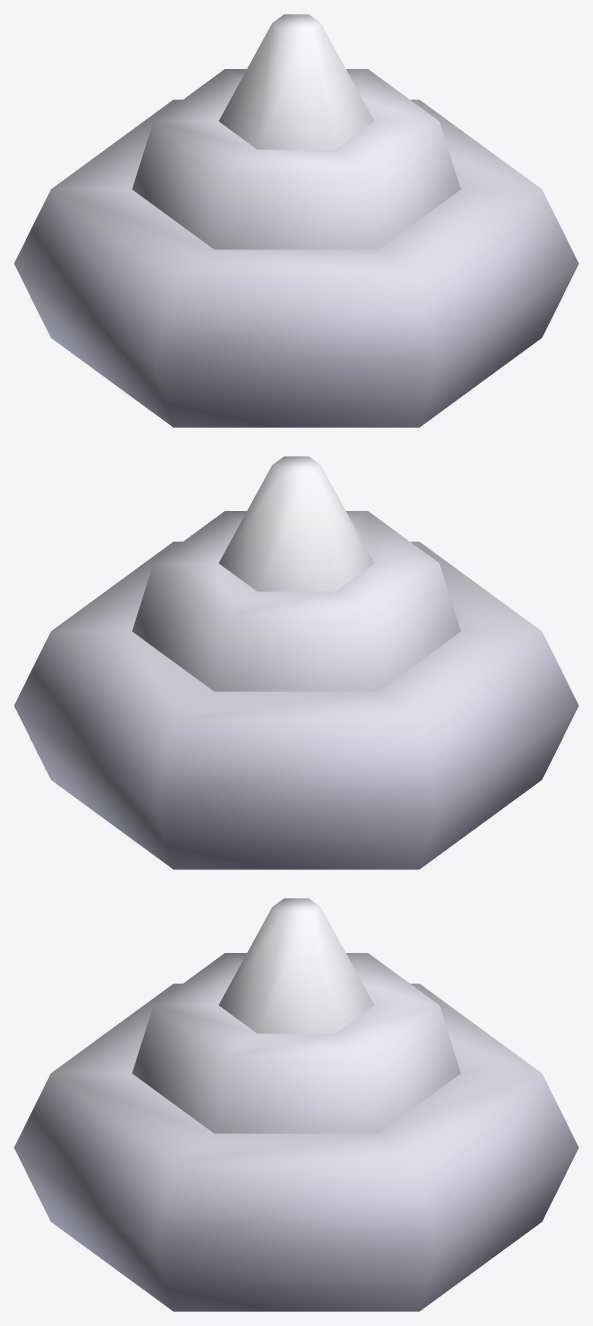
The model's file is whipped-cream.glb.
The picture shows the model from 3 angles, top to bottom: view 1: azimuth 30°, elevation 25°; view 2: azimuth 150°, elevation 25°; view 3: azimuth 270°, elevation 25°; orthographic projection.
Parts seen in each view (by area): view 1: whipped-cream; view 2: whipped-cream; view 3: whipped-cream.
Boxes of the visible parts, x1,y1,x2,y2 form: whipped-cream: (14, 14, 578, 427); whipped-cream: (14, 456, 578, 869); whipped-cream: (14, 898, 578, 1311).
Size of the model in its own units: 0.1363 by 0.0967 by 0.1573.
1 material, 1 textured.
